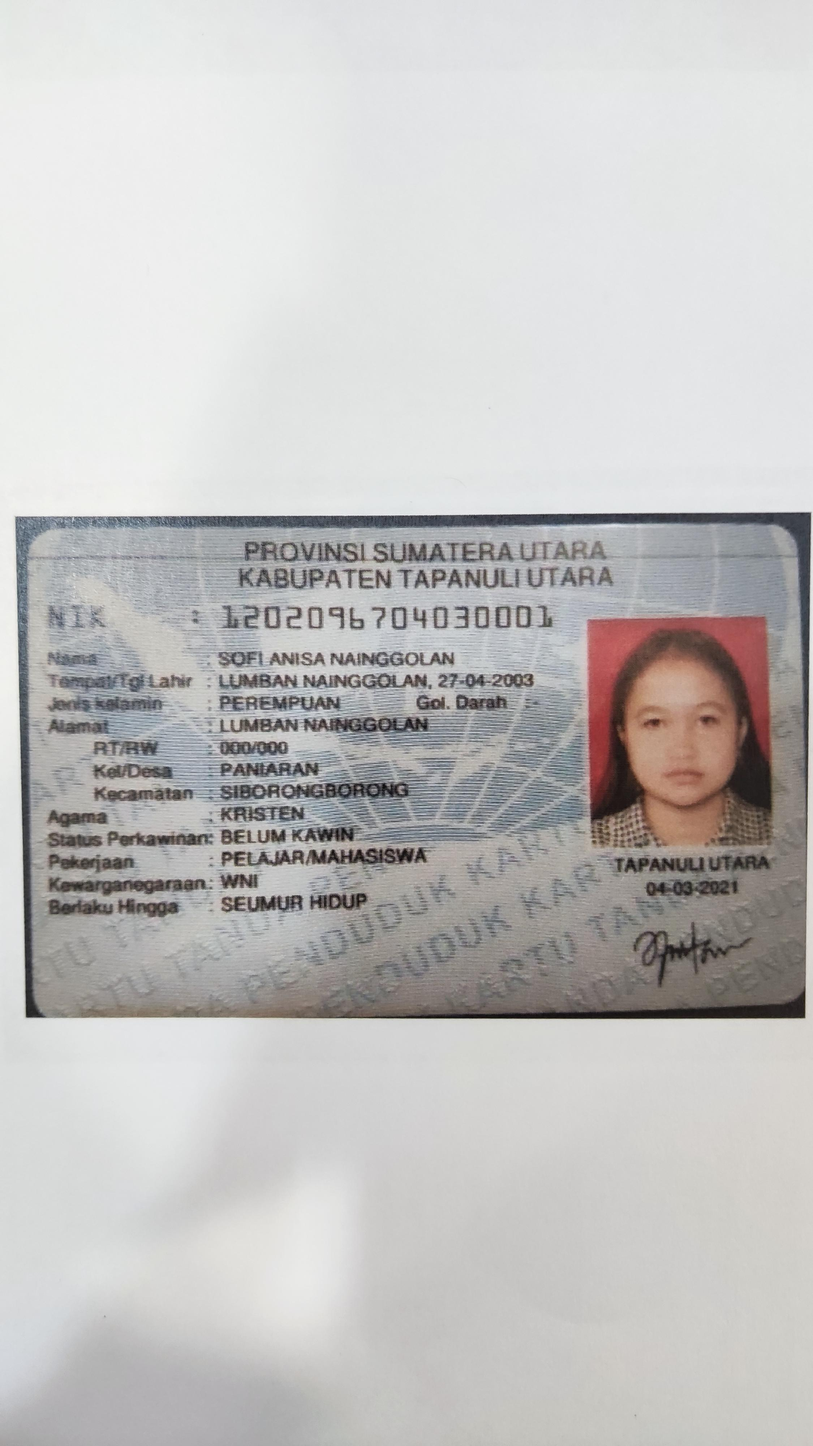ID-card: (31, 528, 798, 1006)
